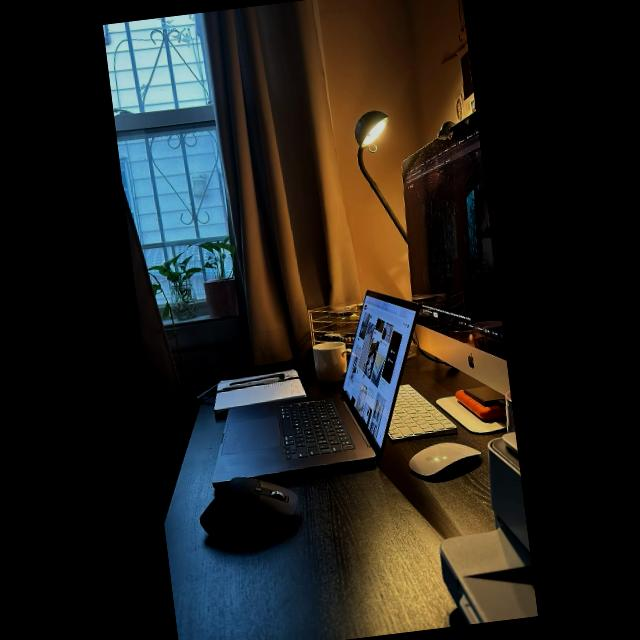laptop: (246, 294, 412, 490)
